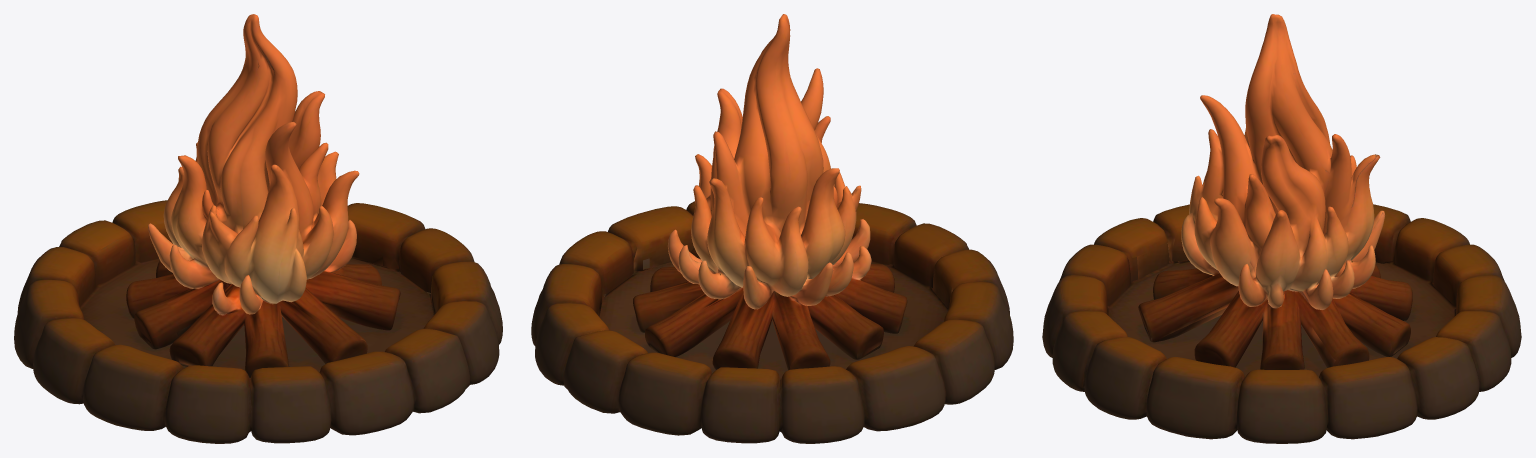
The model's file is Outdoor__a_campfire_pit_2dcbe591_v3.cluster.glb.
The picture shows the model from 3 angles, left to right: view 1: azimuth 30°, elevation 25°; view 2: azimuth 150°, elevation 25°; view 3: azimuth 270°, elevation 25°; orthographic projection.
Visible parts, largest first — view 1: material; view 2: material; view 3: material.
Part boxes in pixels (<box>): material: <box>14,14,502,443</box>; material: <box>531,14,1013,443</box>; material: <box>1042,14,1521,443</box>.
Size of the model in its own units: 1.9 by 1.44 by 1.9.
Materials: 1 (1 with a texture image).
